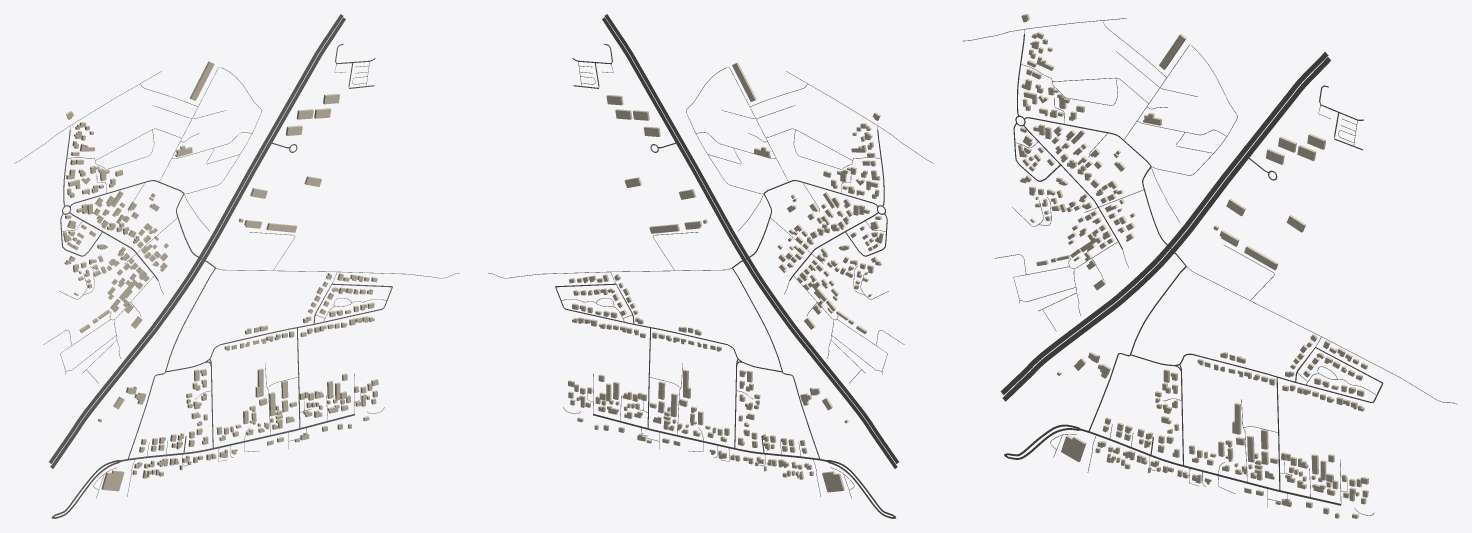
Rendered from historic-palestine-06_24_3482_3187.glb.
3 views of the same model, side by side, from view 1: azimuth 30°, elevation 25°; view 2: azimuth 150°, elevation 25°; view 3: azimuth 330°, elevation 25° (orthographic). The views are drawn at different scales.
Parts seen in each view (by area): view 1: Road 40.001, Road 40, Road ההדרים; view 2: Road 40.001, Road 40, Road ההדרים; view 3: Road 40.001, Road 40, Road ההדרים.
Part boxes in pixels (x1=…): Road 40.001: x1=50, y1=17, x2=345, y2=468; Road 40: x1=49, y1=14, x2=343, y2=463; Road ההדרים: x1=121, y1=413, x2=354, y2=461; Road 40.001: x1=602, y1=17, x2=897, y2=468; Road 40: x1=604, y1=14, x2=898, y2=463; Road ההדרים: x1=593, y1=413, x2=826, y2=461; Road 40.001: x1=1002, y1=57, x2=1330, y2=401; Road 40: x1=1000, y1=52, x2=1328, y2=394; Road ההדרים: x1=1081, y1=429, x2=1340, y2=505.
Size of the model in its own units: 1359 by 1268 by 8.7.
